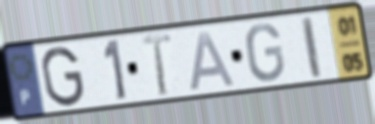1: (100, 37, 129, 104)
A: (188, 28, 238, 92)
G: (39, 45, 87, 109), (244, 21, 287, 84)
I: (298, 14, 325, 81)
T: (139, 31, 175, 99)
